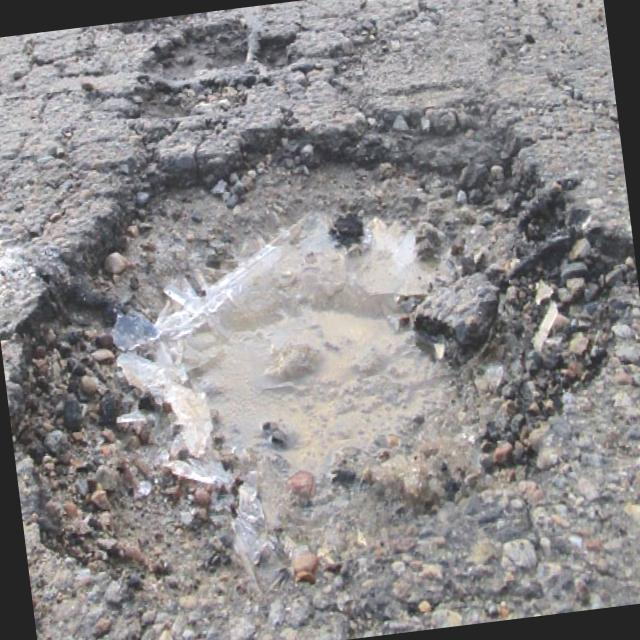bad-road: (0, 80, 640, 623), (117, 10, 306, 123)
